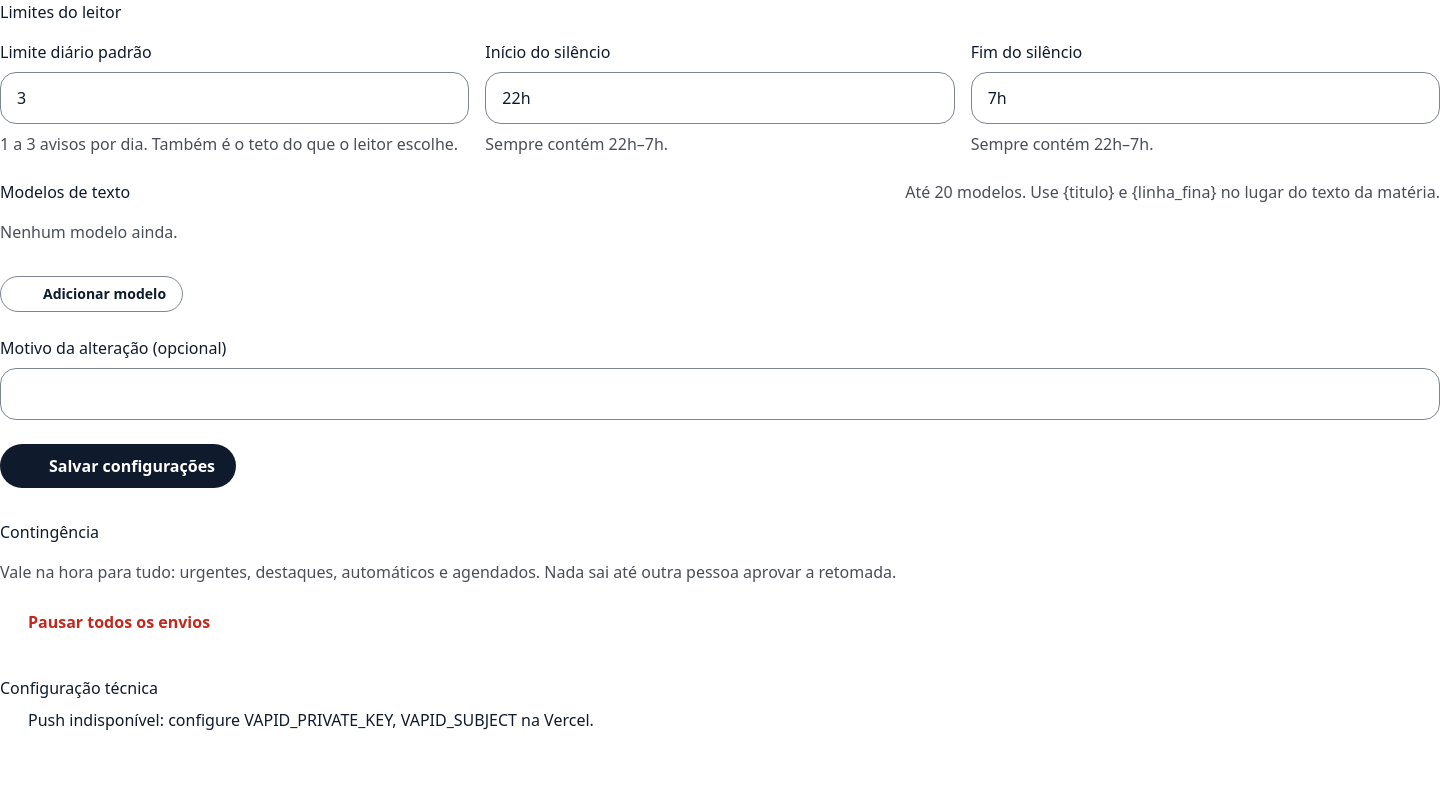
it: PushSettingsForm (spec §10.5) › pausar exige motivo e PAUSAR digitado; erro do servidor fica no diálogo
The image size is (1440, 810).
Click the button "Pausar todos os envios" at (105, 622), box [0,600,210,644]
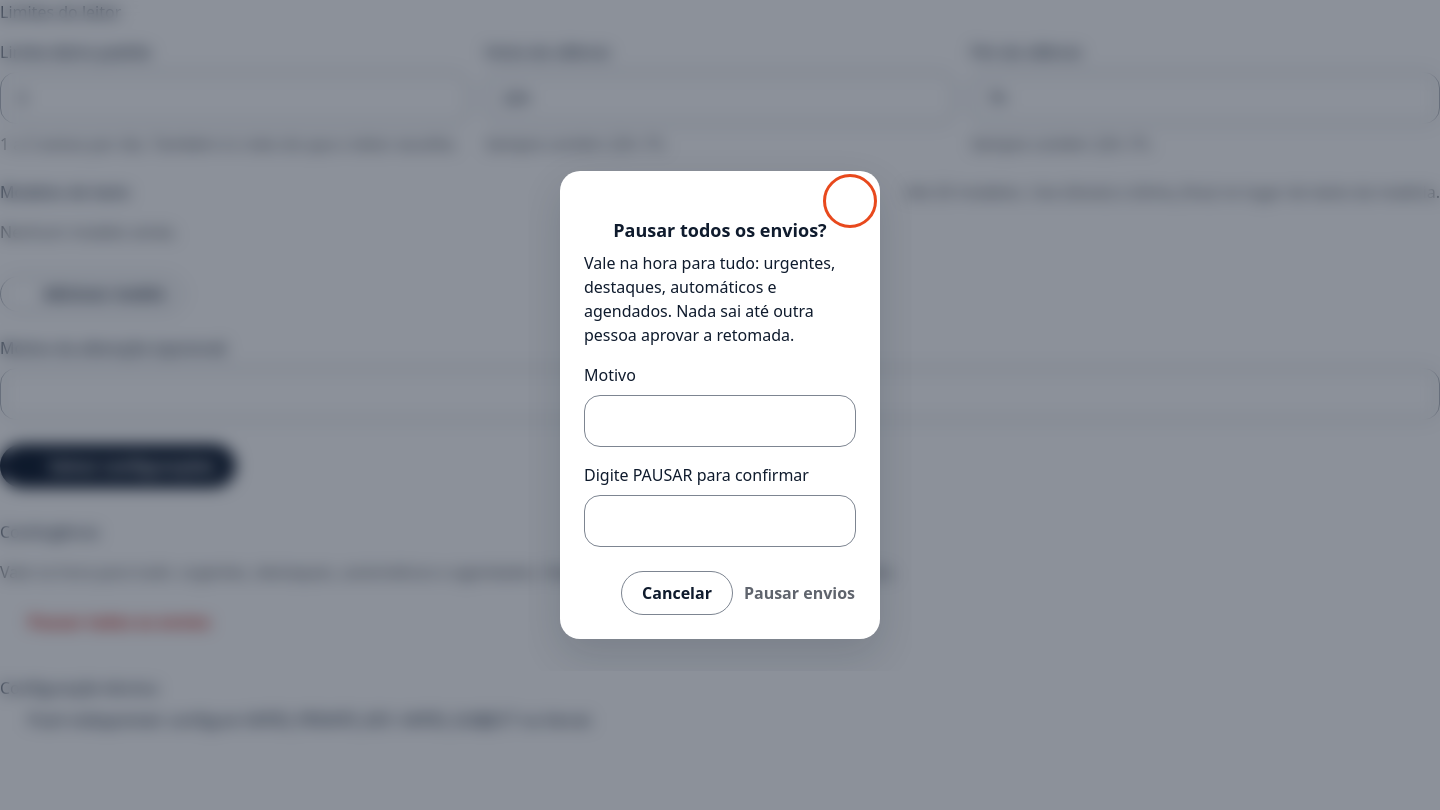
Now the button "Pausar envios" is disabled, box [743,571,856,615]
Type "incidente" into the field labelled "Motivo" at (720, 421), box [584,395,856,447]
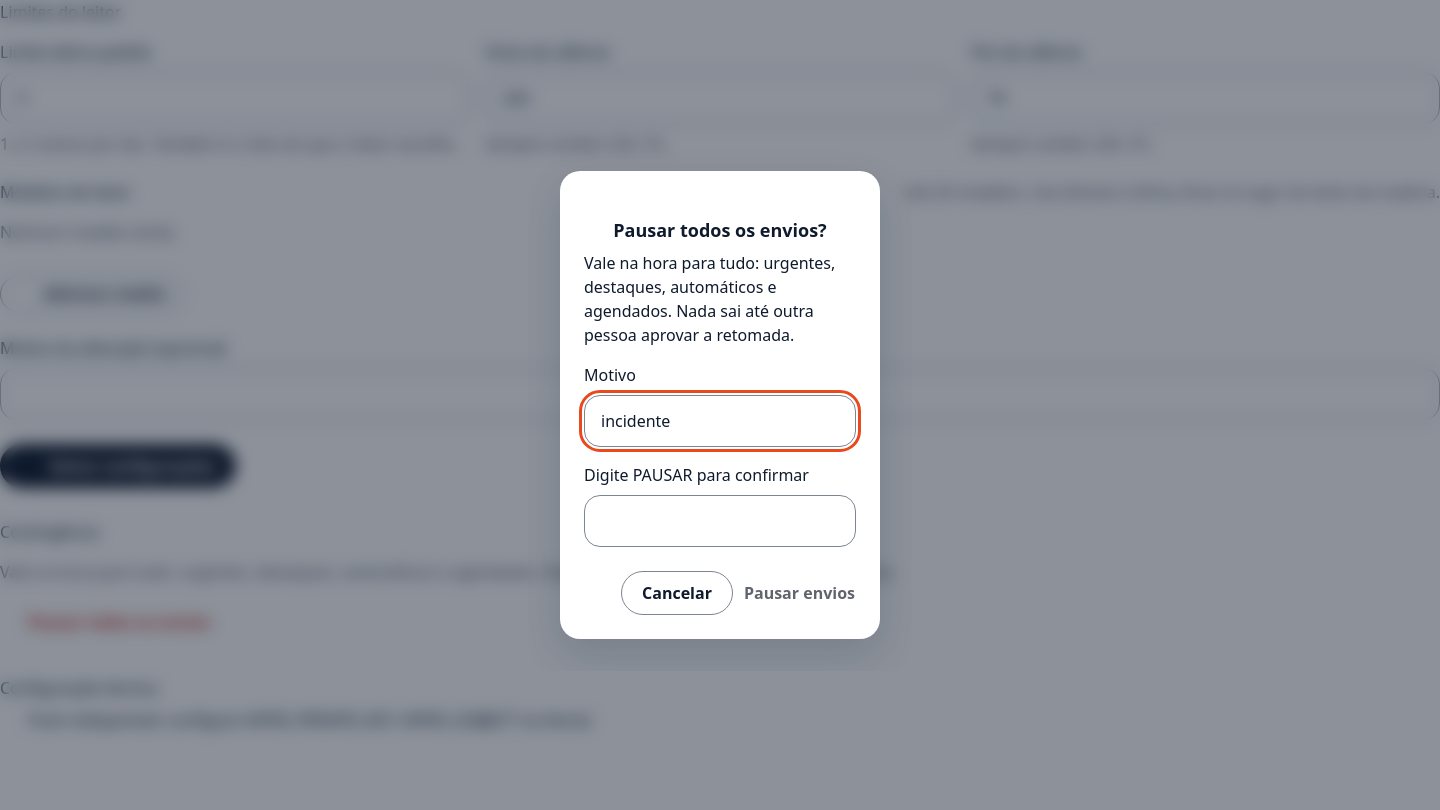
Type "pausar" into the field labelled "Digite PAUSAR para confirmar" at (720, 521), box [584,495,856,547]
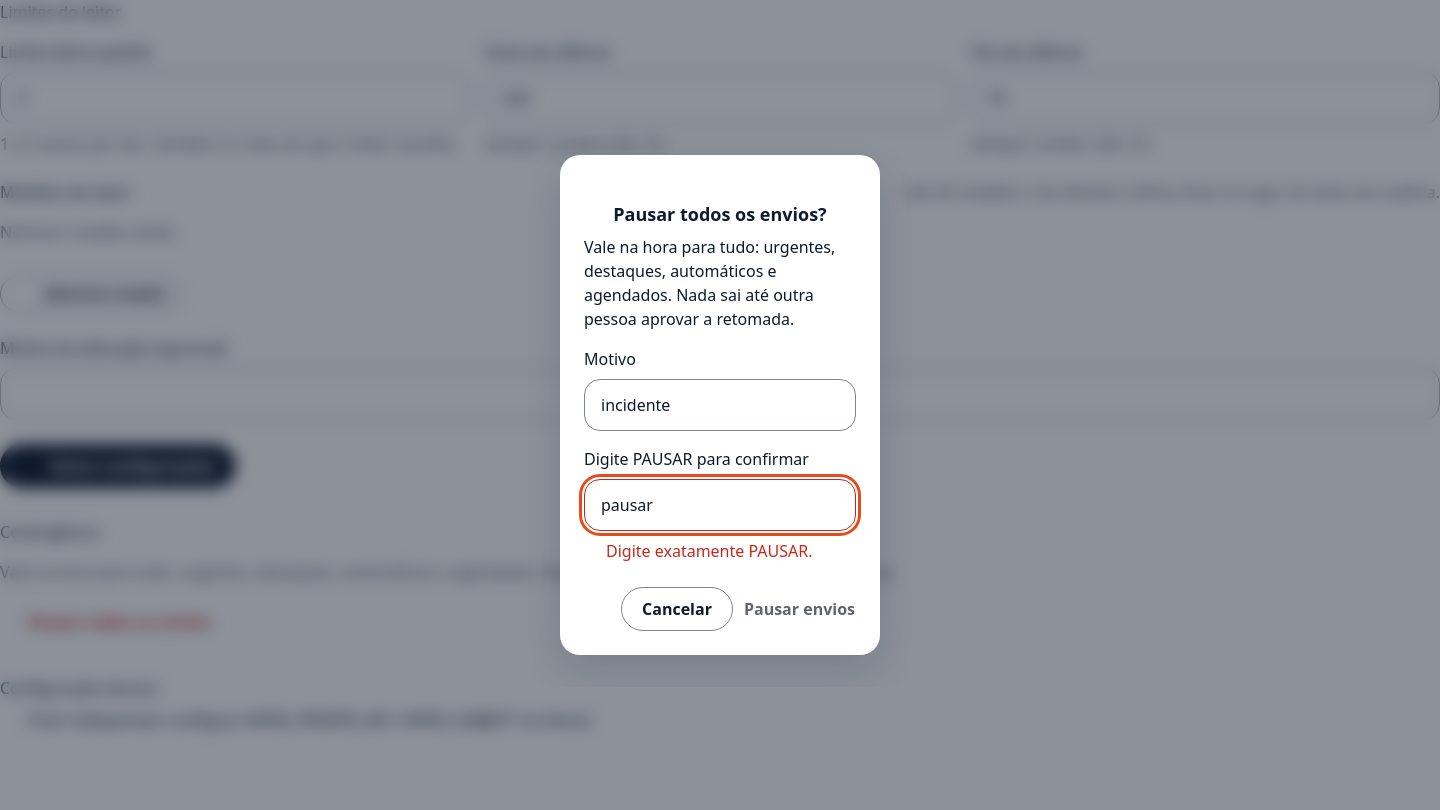
Now the button "Pausar envios" is disabled, box [743,587,856,631]
Now the text "Digite exatamente PAUSAR." is shown, box [584,540,812,562]
Clear the field labelled "Digite PAUSAR para confirmar" at (720, 505), box [584,479,856,531]
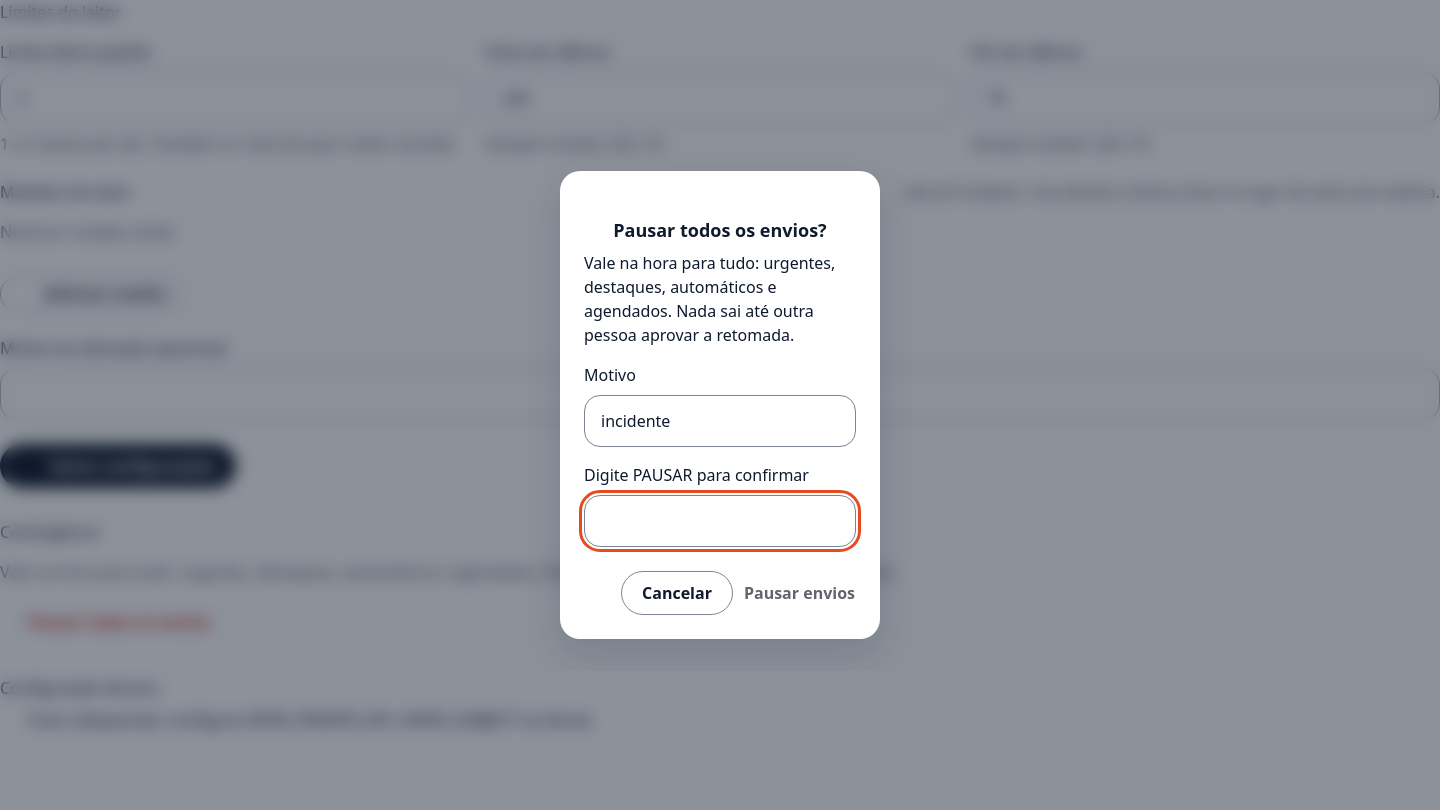
Type "PAUSAR" into the field labelled "Digite PAUSAR para confirmar" at (720, 521), box [584,495,856,547]
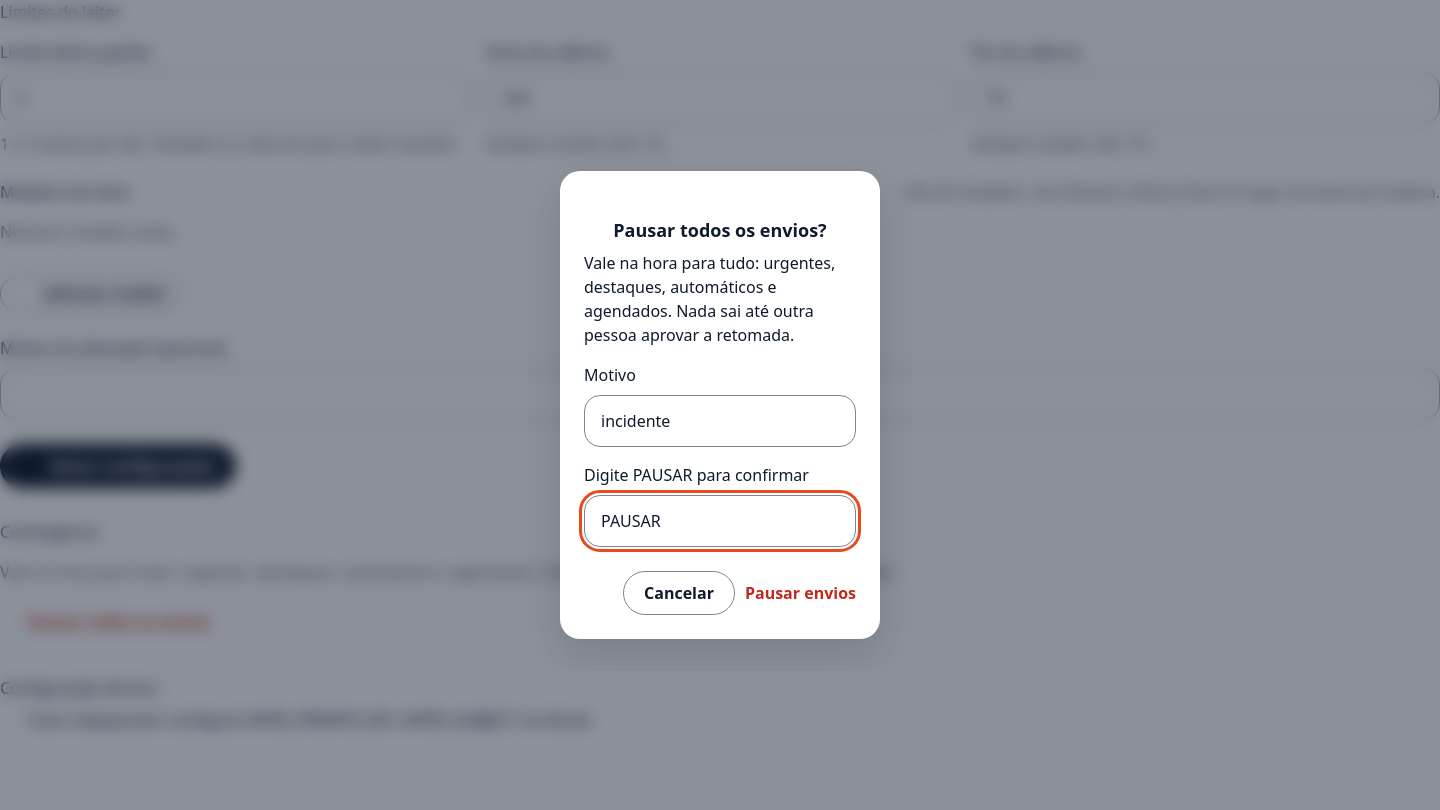
Now the button "Pausar envios" is enabled
Click the button "Pausar envios" at (800, 593), box [745,571,856,615]
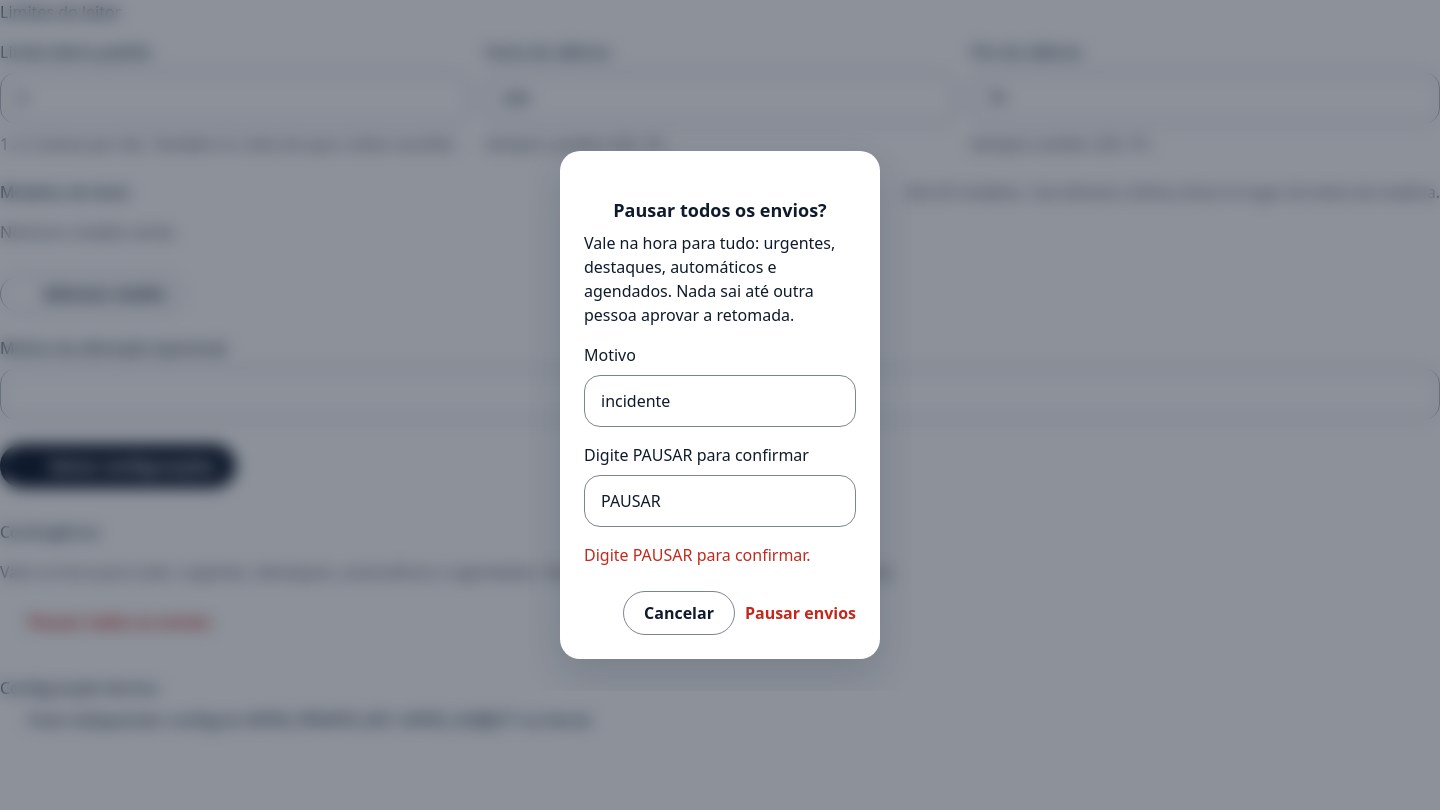
Now the dialog "Pausar todos os envios?" is shown, box [560,151,880,659]
Now the message reads "Digite PAUSAR para confirmar.", box [584,544,811,566]
